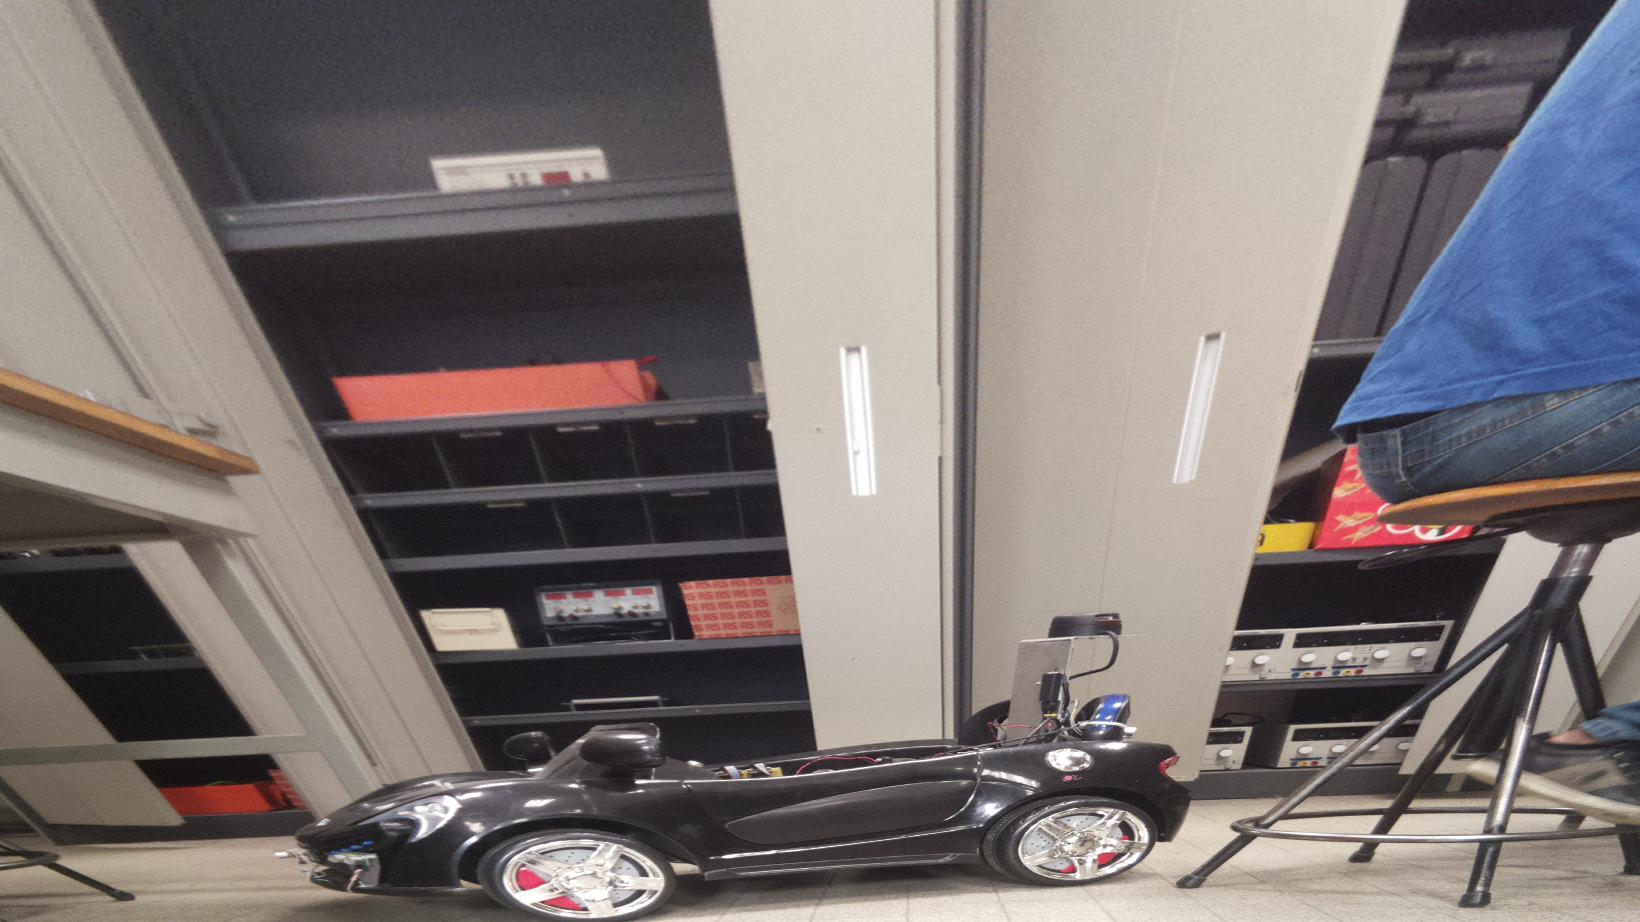big: (270, 608, 1195, 920)
